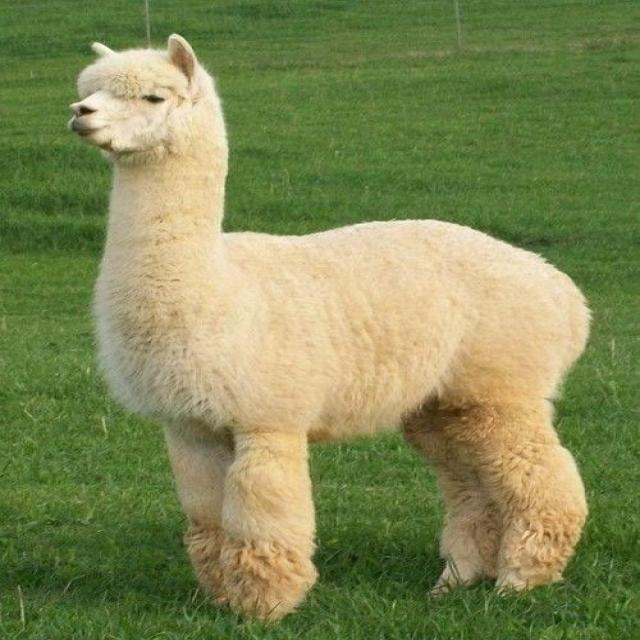Herbivorous: (65, 34, 594, 625)
